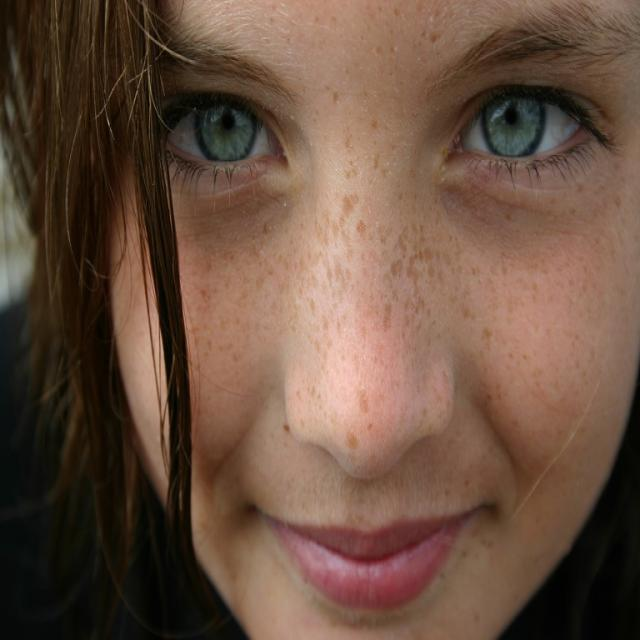Dark-Spots: (176, 100, 602, 452)
